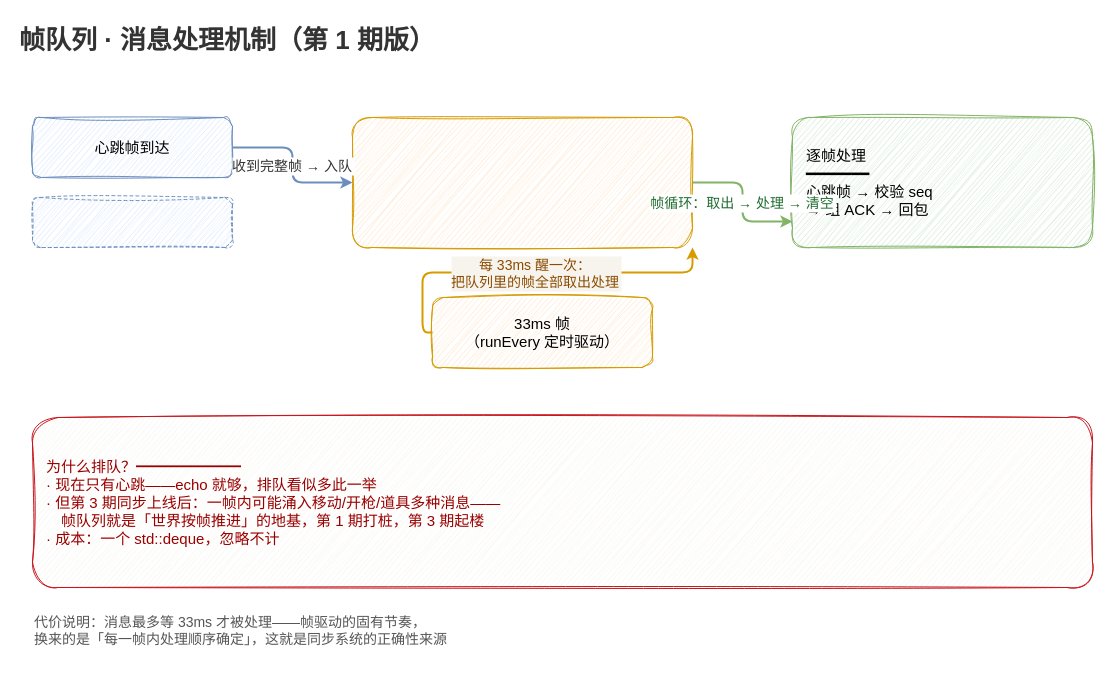
The diagram is 1110 pixels wide and 674 high, and some of its shapes have lost their labels. Here are the shapes that lost their labels. From the top down, the box of each, then its label:
(352, 116, 692, 248): 帧队列 std::deque ━━━━━━━ [心跳帧] [心跳帧] [ … ] 先到先排，只在 loop 线程消费
(32, 196, 232, 248): 更多帧到达…
